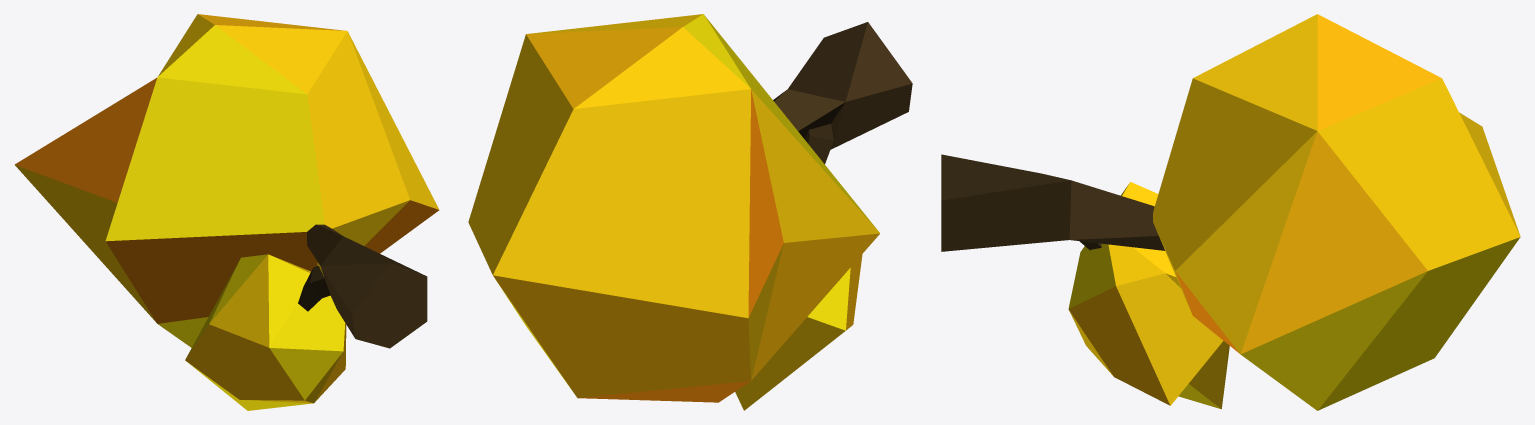
The model's file is tree_13.fbx.
The picture shows the model from 3 angles, left to right: view 1: azimuth 30°, elevation 25°; view 2: azimuth 150°, elevation 25°; view 3: azimuth 270°, elevation 25°; orthographic projection. The views are drawn at different scales.
Visible parts, largest first — view 1: tree_13; view 2: tree_13; view 3: tree_13.
Part boxes in pixels (<box>): tree_13: <box>14,14,439,410</box>; tree_13: <box>468,14,912,410</box>; tree_13: <box>941,14,1520,410</box>.
Bounding box in the file's own units: 131 × 135 × 176.
